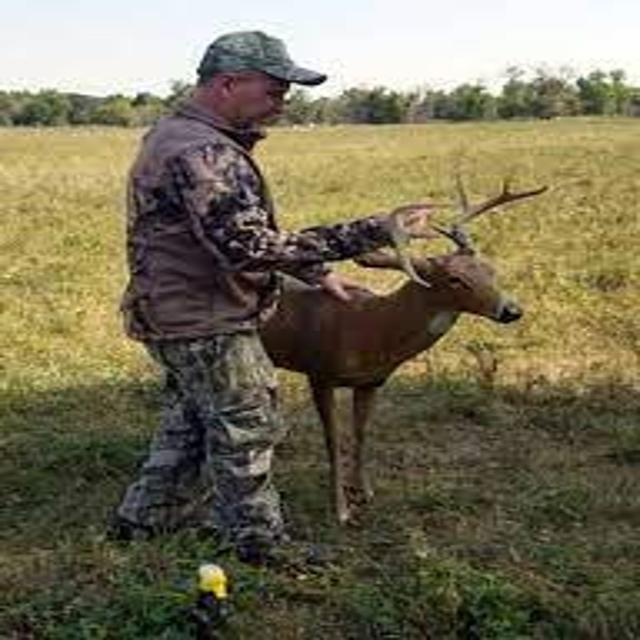deer: (198, 161, 567, 548)
ranger: (64, 5, 438, 574)
